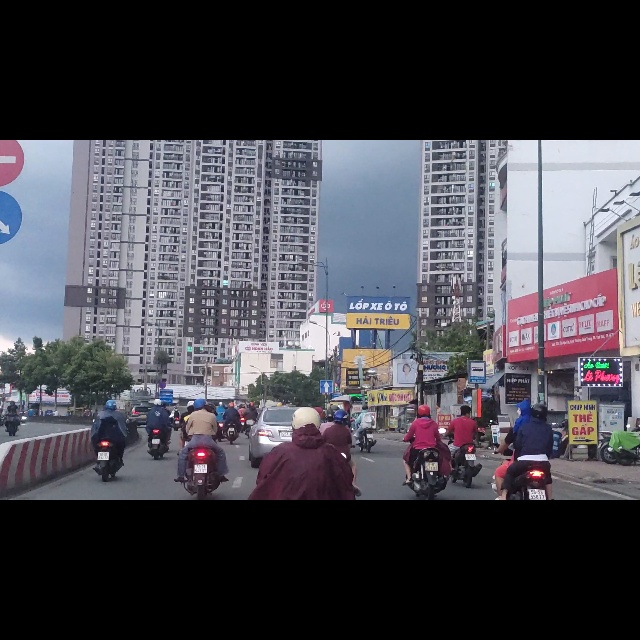bien_chi_dan: (468, 392, 486, 433), (320, 427, 333, 449)
